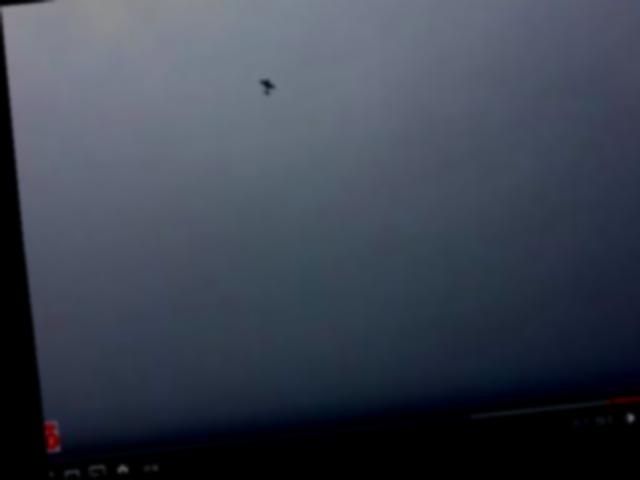uav: (257, 82, 275, 103)
